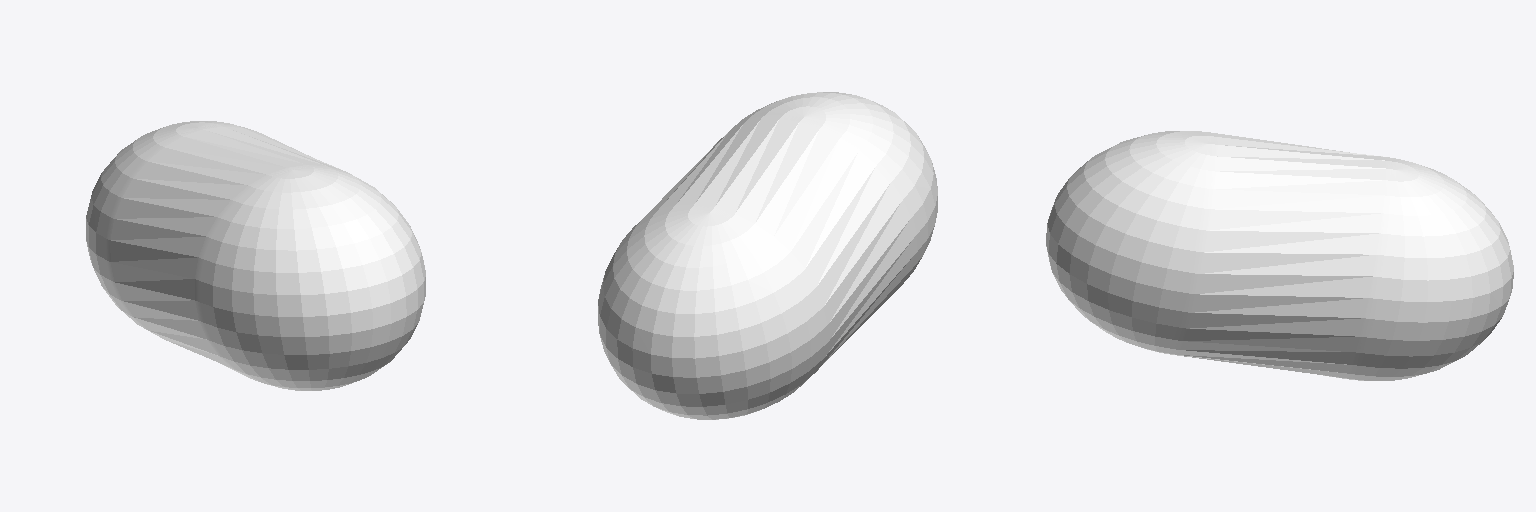
3 views of the same model, side by side, from view 1: azimuth 30°, elevation 25°; view 2: azimuth 150°, elevation 25°; view 3: azimuth 270°, elevation 25° (orthographic).
Parts seen in each view (by area): view 1: Object011; view 2: Object011; view 3: Object011.
Boxes of the visible parts, box(x1,y1,x2,y2) form: Object011: box(86, 121, 425, 390); Object011: box(598, 92, 937, 419); Object011: box(1046, 131, 1513, 380).
Size of the model in its own units: 4.38 by 4.62 by 8.61.
1 materials, 1 textured.